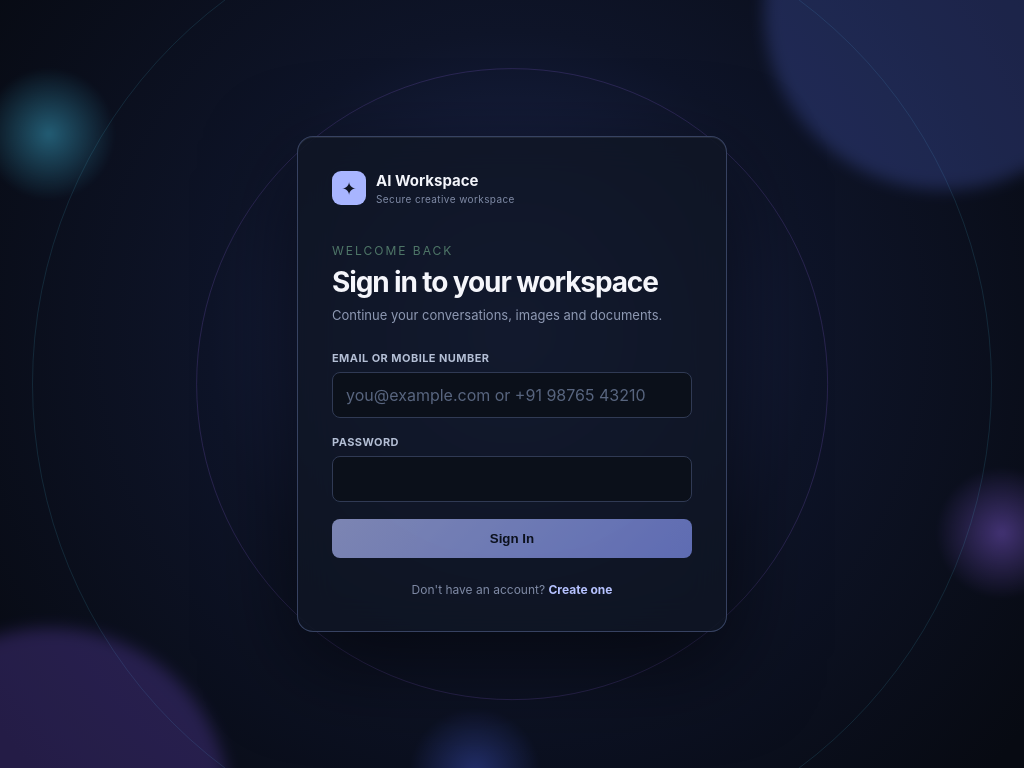
Scenario: NET-06: database-down messaging › login shows the backend's retry guidance instead of a generic error
The width and height of the screenshot is (1024, 768).
In the field labelled "Email or mobile number": coordinates (512, 395) left=332, top=372, right=692, bottom=418, type "a@b.com"
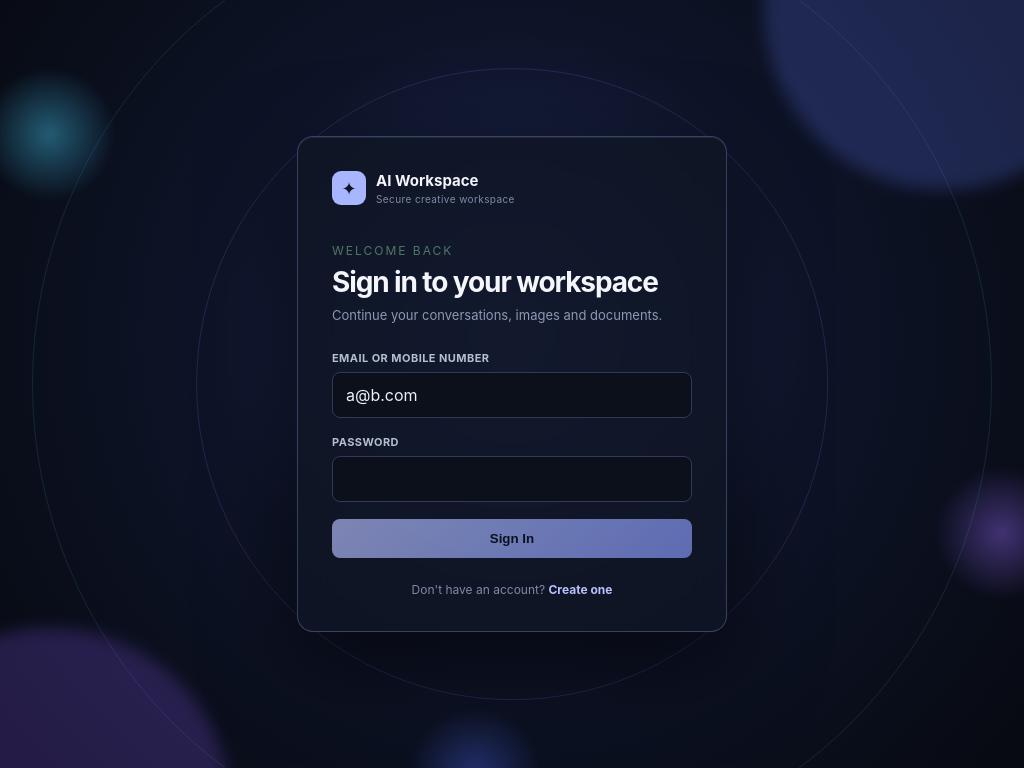
In the password field labelled "Password": coordinates (512, 479) left=332, top=456, right=692, bottom=502, type "whatever"
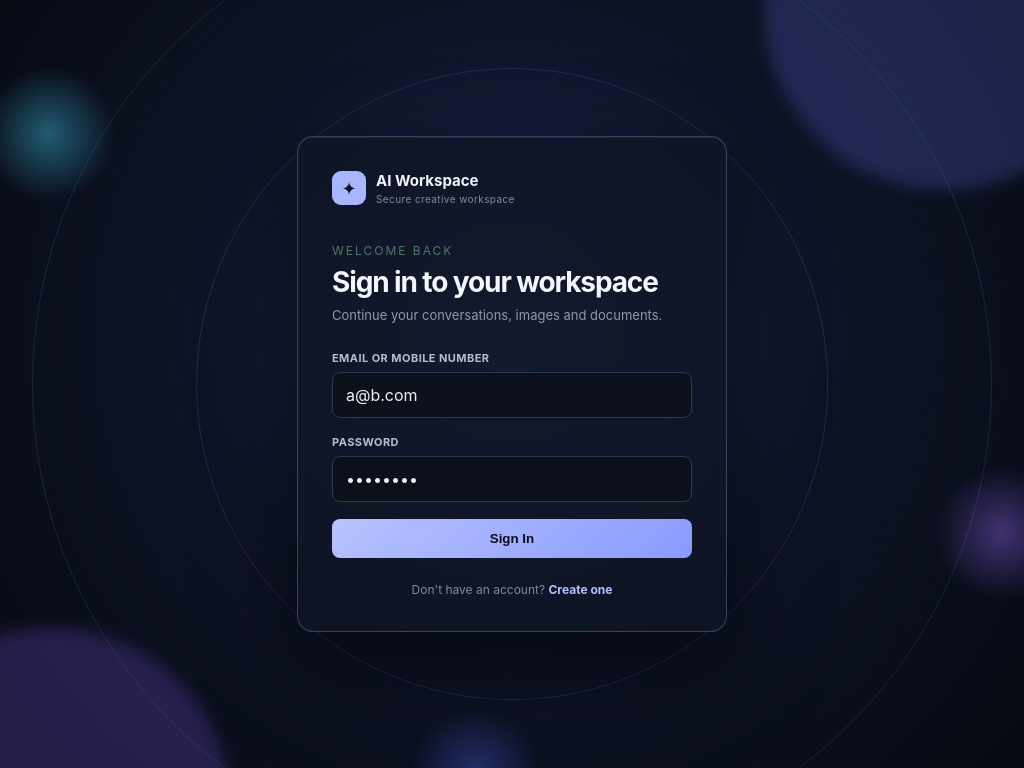
Click the button "Sign In": coordinates (512, 538) left=332, top=519, right=692, bottom=558
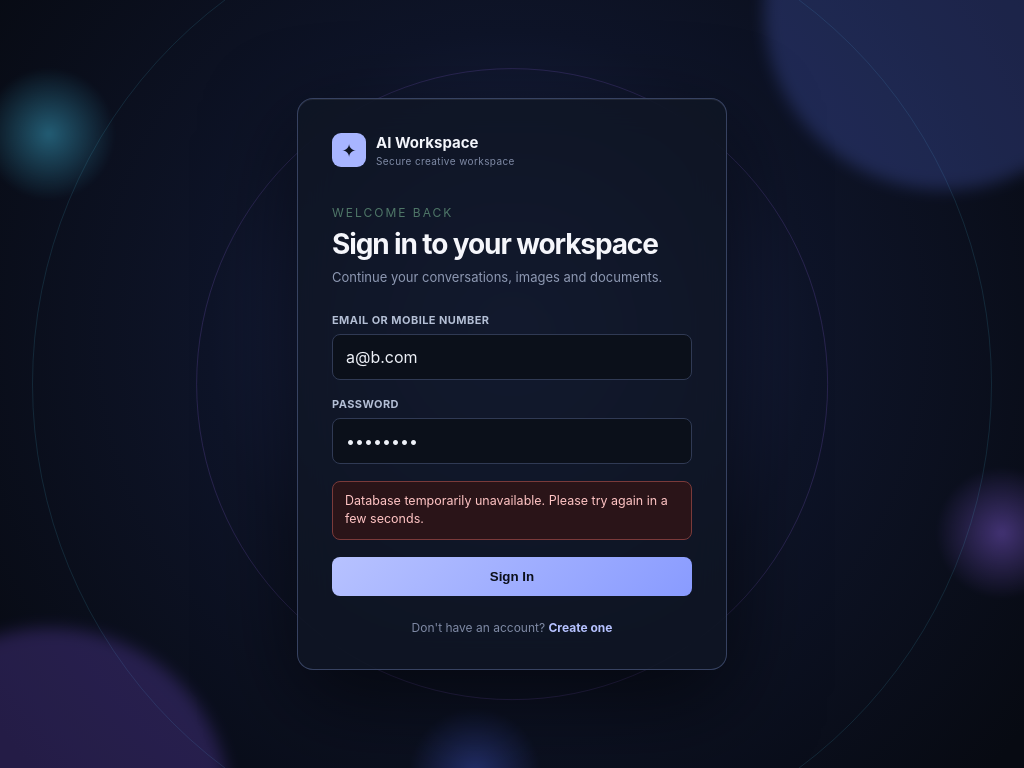
Expected: the button "Sign In" is shown, left=332, top=557, right=692, bottom=596
Expected: the message shows "Database temporarily unavailable", left=345, top=493, right=668, bottom=526
Expected: the message shows "try again in a few seconds", left=345, top=493, right=668, bottom=526
